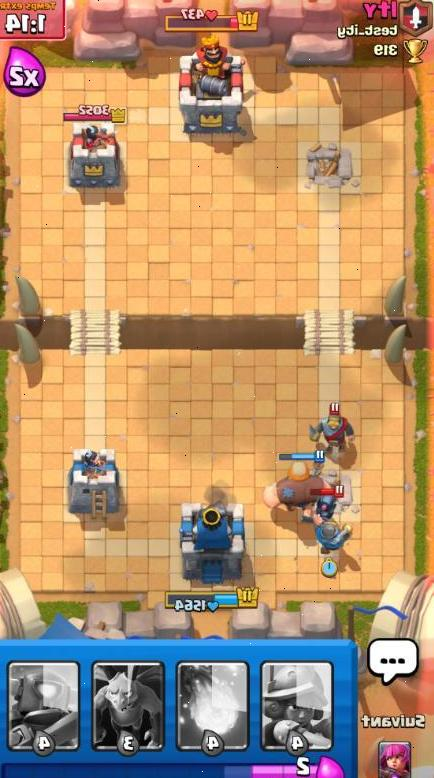enemy_knight: (307, 400, 361, 450), (300, 484, 350, 527)
player_giant: (261, 453, 343, 521)
player_knight: (308, 503, 359, 555)
